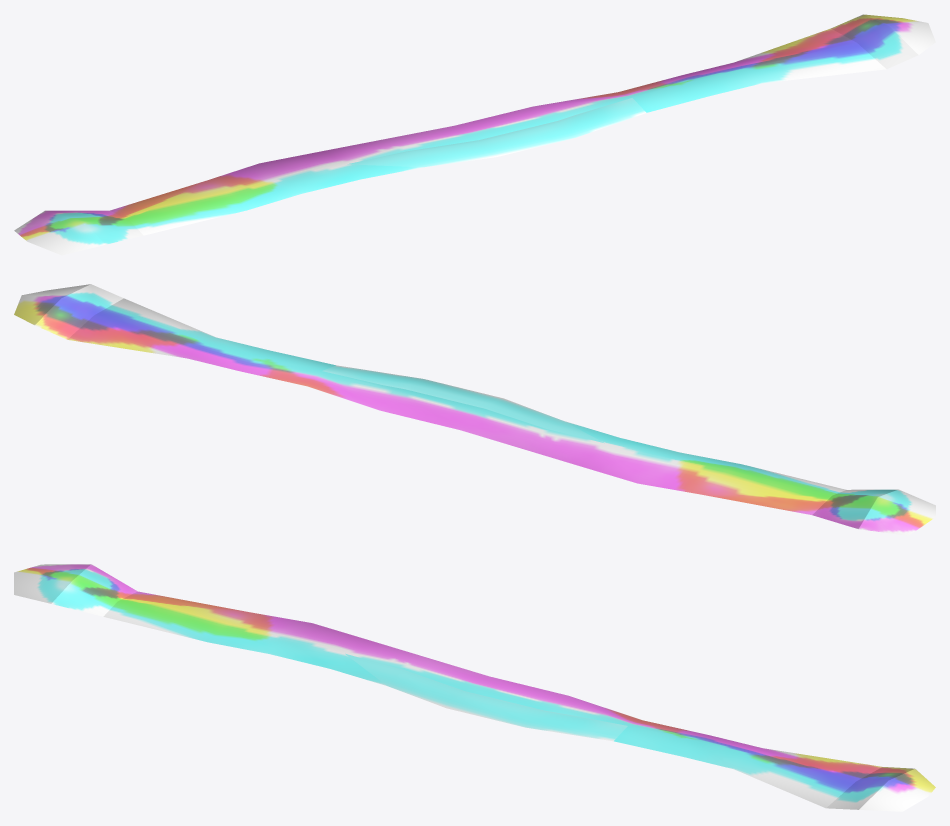
Rendered from mapwalls.fbx.
The picture shows the model from 3 angles, top to bottom: view 1: azimuth 30°, elevation 25°; view 2: azimuth 150°, elevation 25°; view 3: azimuth 330°, elevation 25°; orthographic projection.
Parts seen in each view (by area): view 1: pCube6, pCube7; view 2: pCube6, pCube7; view 3: pCube6, pCube7.
Part boxes in pixels (x1=…): pCube6: x1=14, y1=14, x2=935, y2=255; pCube7: x1=347, y1=98, x2=646, y2=167; pCube6: x1=14, y1=284, x2=935, y2=535; pCube7: x1=322, y1=365, x2=604, y2=443; pCube6: x1=14, y1=564, x2=935, y2=811; pCube7: x1=345, y1=653, x2=627, y2=741.
Size of the model in its own units: 5.4 by 0.0807 by 0.6286.
Materials: 1 (1 with a texture image).
